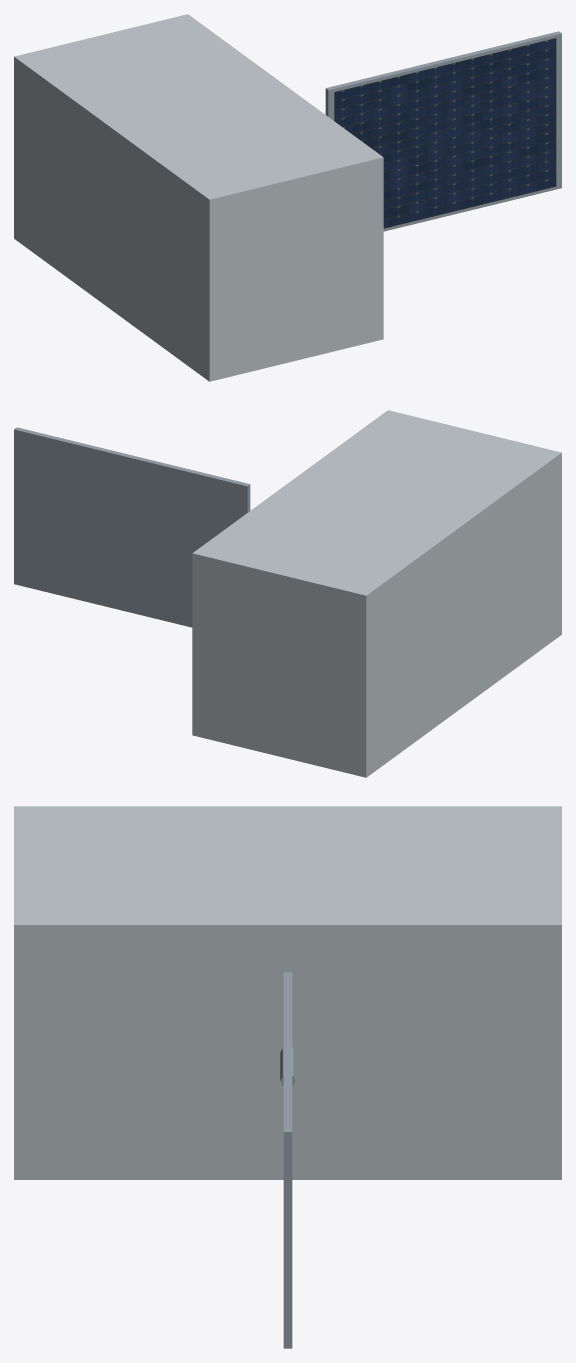
File: ref-tiros-n-11060.glb
3 views of the same model, one above another, from view 1: azimuth 30°, elevation 25°; view 2: azimuth 150°, elevation 25°; view 3: azimuth 270°, elevation 25° (orthographic). The views are drawn at different scales.
Parts seen in each view (by area): view 1: Spacecraft body, Photovoltaic laminates, Array frame; view 2: Spacecraft body, Array frame; view 3: Spacecraft body, Array frame.
Boxes of the visible parts, bbox=[...] form: Spacecraft body: bbox=[14, 14, 383, 381]; Photovoltaic laminates: bbox=[334, 38, 556, 228]; Array frame: bbox=[325, 31, 561, 231]; Spacecraft body: bbox=[192, 410, 561, 777]; Array frame: bbox=[14, 427, 250, 627]; Spacecraft body: bbox=[14, 806, 561, 1179]; Array frame: bbox=[283, 972, 292, 1348].
Size of the model in its own units: 4.9 by 1.9 by 3.7.
3 materials, 1 textured.
